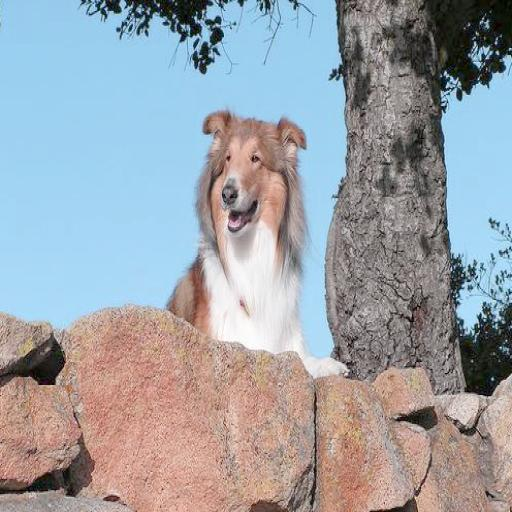dog_face: (197, 108, 309, 243)
